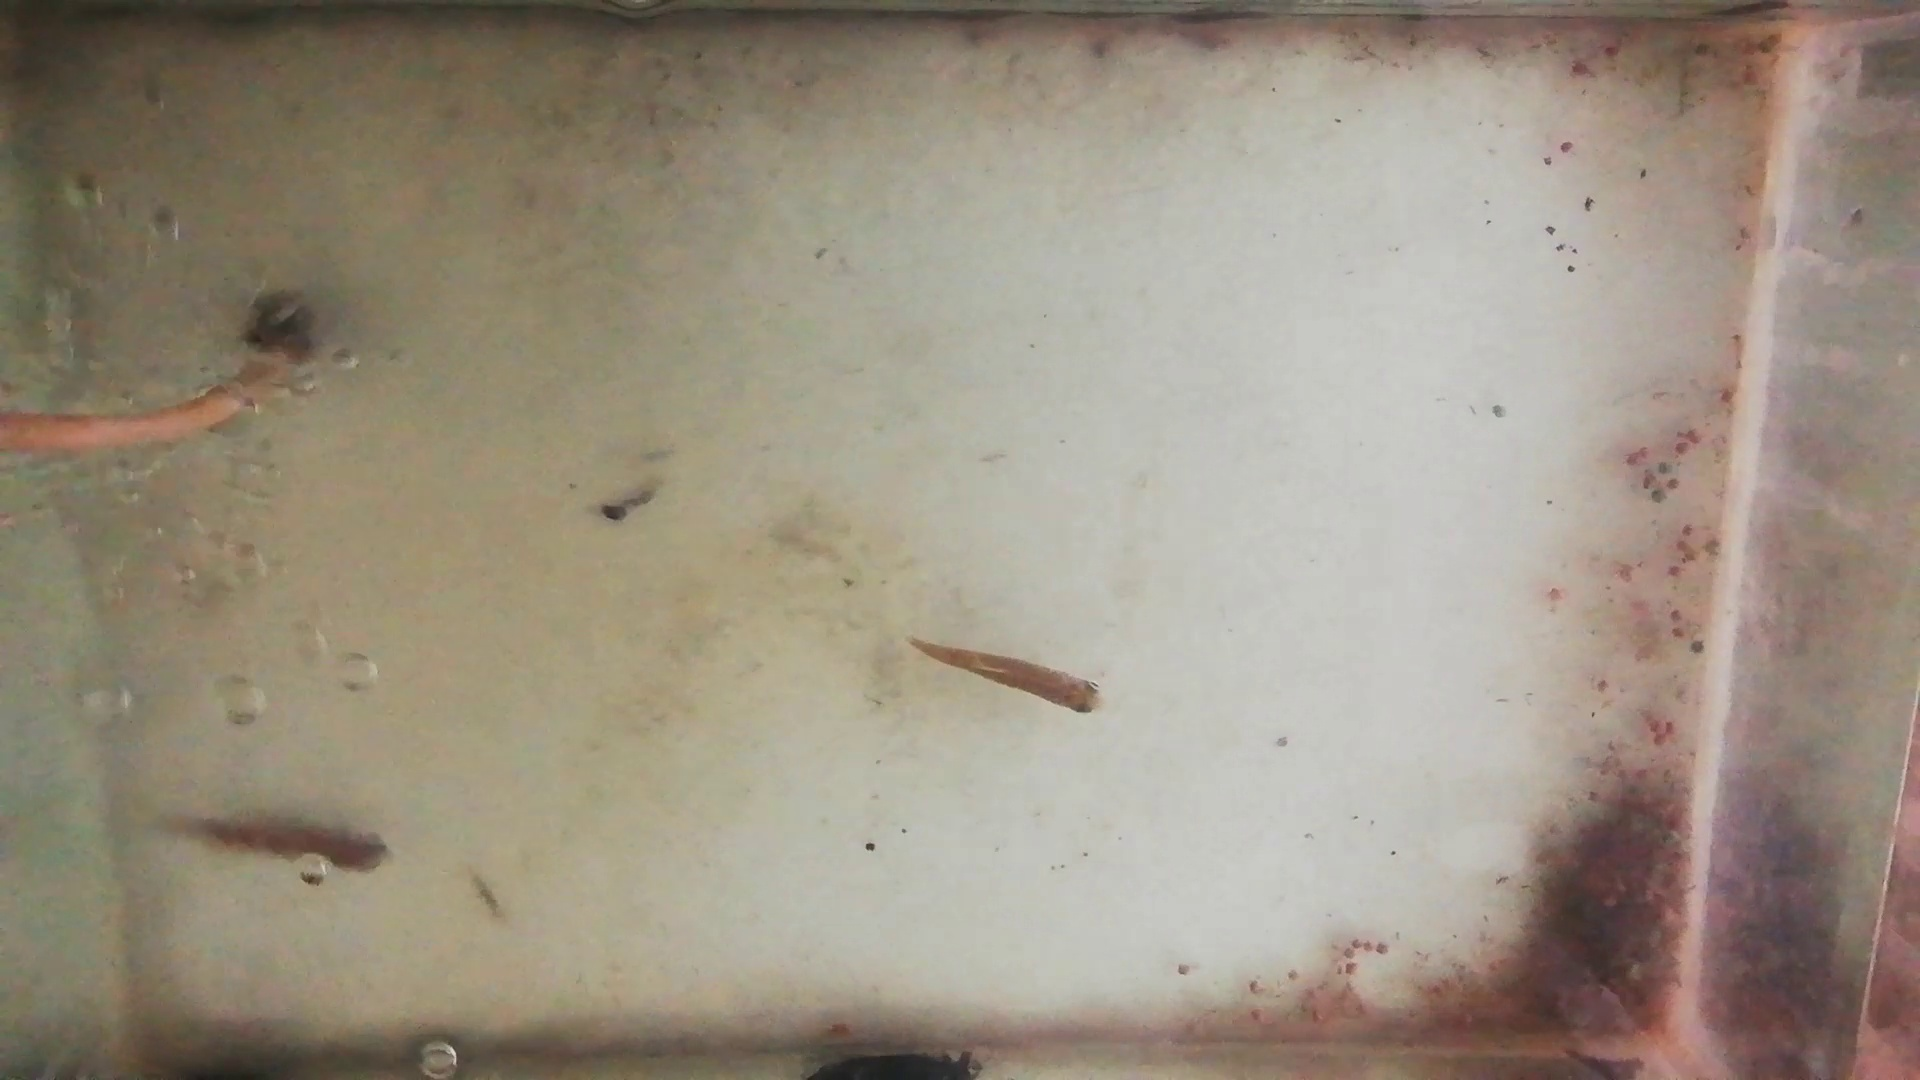fish: (909, 634, 1106, 716), (162, 819, 393, 876)
